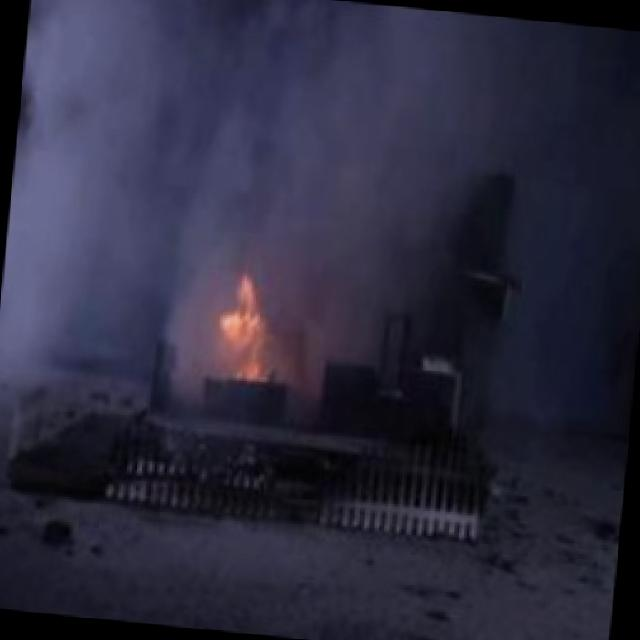fire: (192, 241, 306, 394)
smoke: (10, 0, 499, 280)
